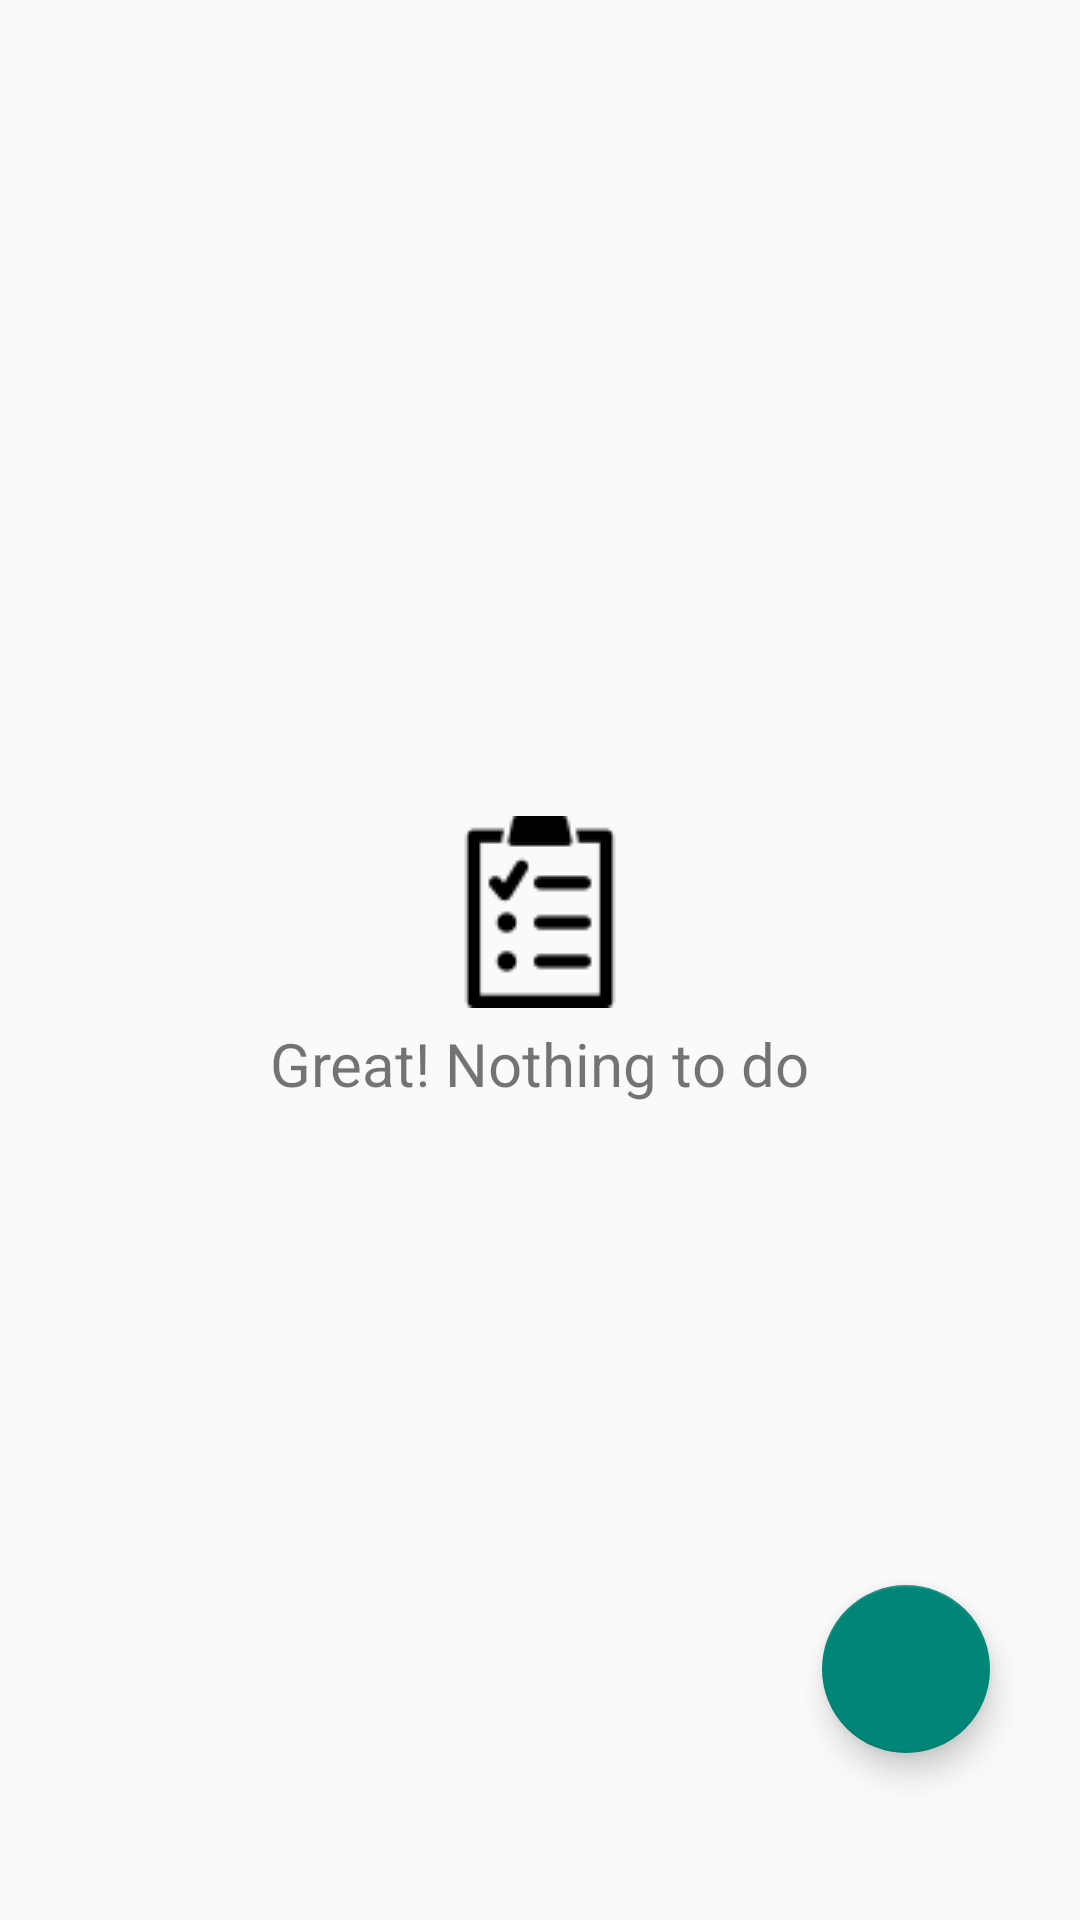

Screen size 1080 × 1920. Icon name, then its center in pixels as (x=x, y=y):
todolist: (x=540, y=912)
